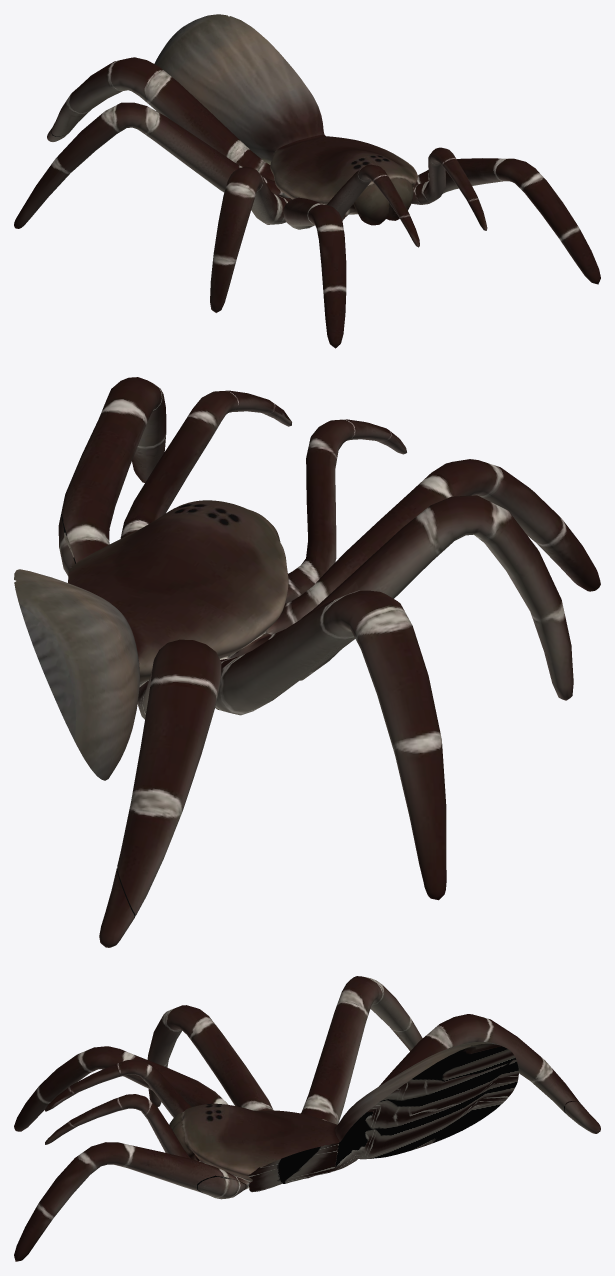
The model's file is spider3forward-compressed.glb.
3 renders of one model, top to bottom at view 1: azimuth 30°, elevation 25°; view 2: azimuth 150°, elevation 25°; view 3: azimuth 270°, elevation 25°, orthographic. The views are drawn at different scales.
Visible parts, largest first — view 1: Spider_0_cell.001; view 2: Spider_0_cell.001; view 3: Spider_0_cell.001.
Part boxes in pixels (box(x1,y1,x2,y2)): Spider_0_cell.001: box(14, 14, 600, 348); Spider_0_cell.001: box(14, 377, 600, 947); Spider_0_cell.001: box(14, 976, 600, 1261).
Bounding box in the file's own units: 1.29 × 0.4622 × 1.68.
Materials: 1 (1 with a texture image).
